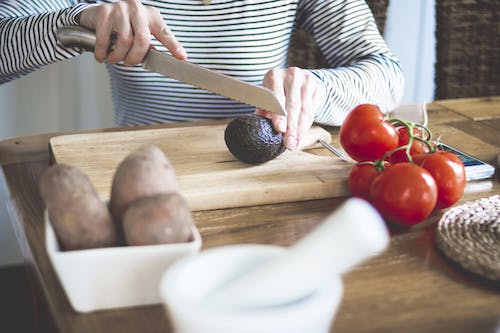knife: (56, 26, 288, 116)
